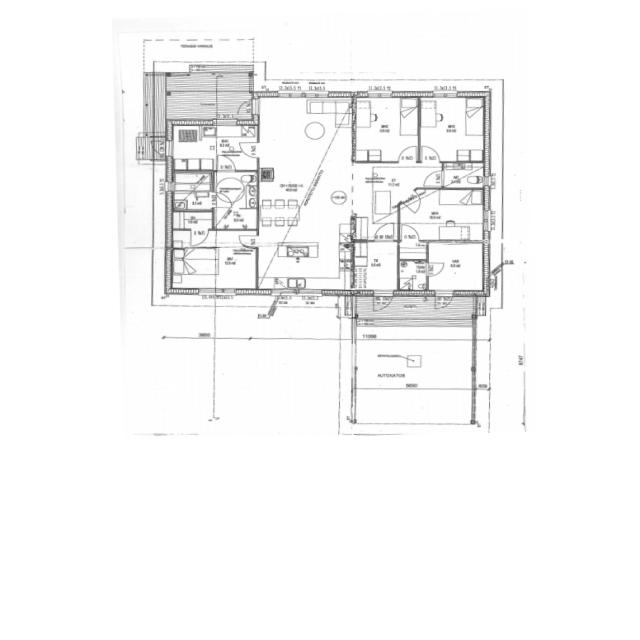door: (371, 289, 396, 316), (432, 289, 457, 314), (373, 220, 399, 242), (189, 226, 212, 248), (418, 142, 442, 163), (396, 143, 418, 165), (398, 222, 422, 242), (423, 259, 448, 278), (234, 232, 259, 250), (238, 140, 260, 160), (423, 168, 446, 187), (234, 99, 255, 119), (215, 154, 238, 172)
window: (194, 287, 242, 304), (429, 90, 460, 100)
zone: (348, 311, 478, 434), (256, 96, 352, 192), (258, 195, 354, 290), (126, 337, 215, 436), (167, 233, 259, 293), (412, 202, 487, 271), (417, 94, 489, 164), (353, 95, 421, 164), (168, 121, 258, 172), (402, 188, 486, 242), (426, 240, 490, 295), (212, 168, 258, 231), (352, 240, 396, 292), (171, 171, 213, 211), (441, 162, 487, 188), (397, 258, 429, 294), (170, 210, 214, 230)
